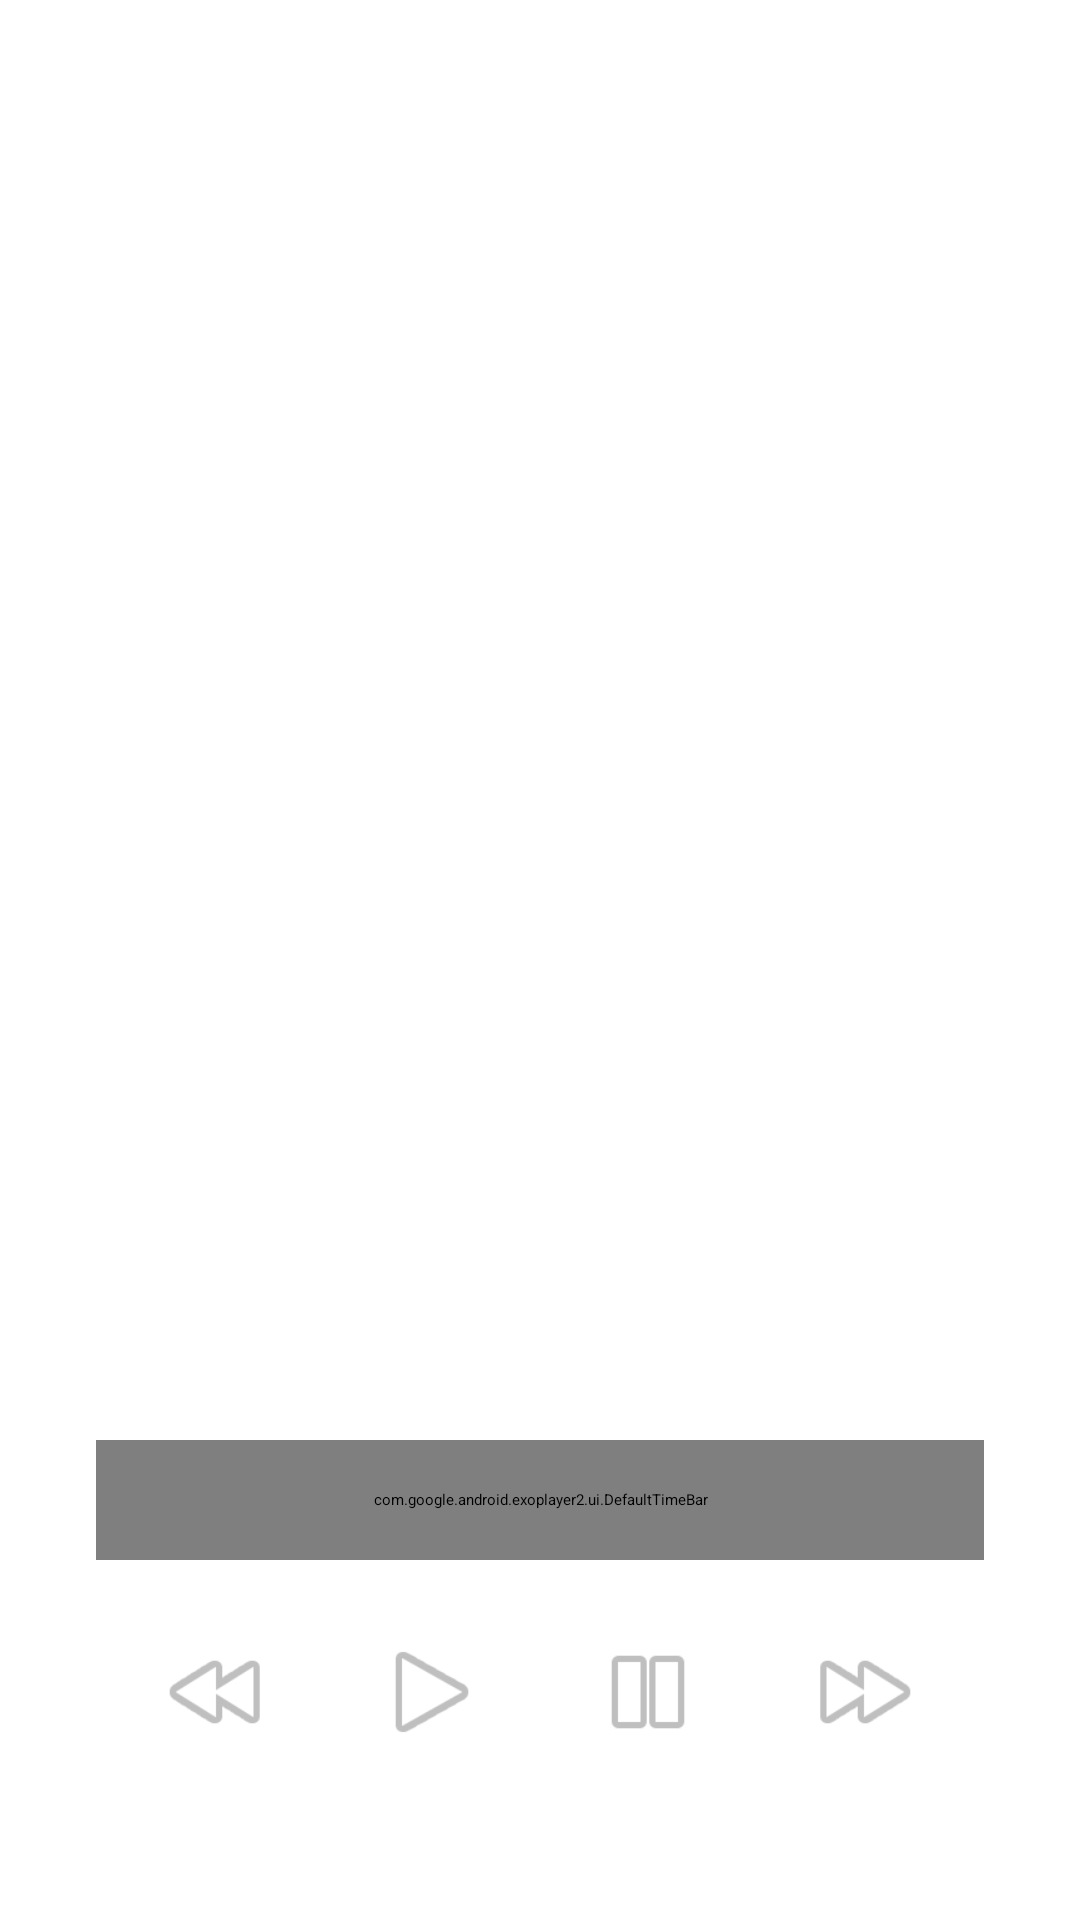

Named icons in this screenshot (1080×1920) and their bounding boxes, box=[x1, y1, x2, y2]:
pause: box=[612, 1656, 684, 1728]
rew: box=[170, 1661, 260, 1723]
